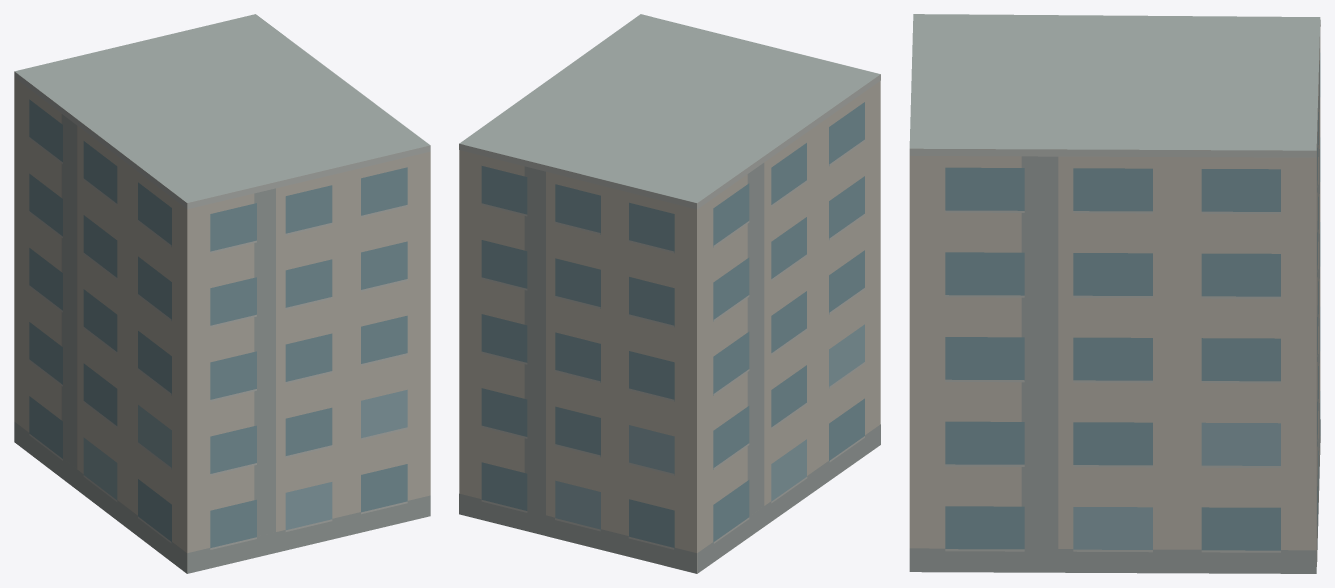
The model's file is survey-upis-33026047.glb.
3 renders of one model, left to right at view 1: azimuth 30°, elevation 25°; view 2: azimuth 150°, elevation 25°; view 3: azimuth 270°, elevation 25°, orthographic. The views are drawn at different scales.
Visible parts, largest first — view 1: survey-upis-33026047.tmp; view 2: survey-upis-33026047.tmp; view 3: survey-upis-33026047.tmp.
Boxes of the visible parts, x1,y1,x2,y2 form: survey-upis-33026047.tmp: [14, 14, 430, 573]; survey-upis-33026047.tmp: [459, 14, 880, 573]; survey-upis-33026047.tmp: [909, 14, 1320, 573].
Bounding box in the file's own units: 9.98 × 14.4 × 12.68.
